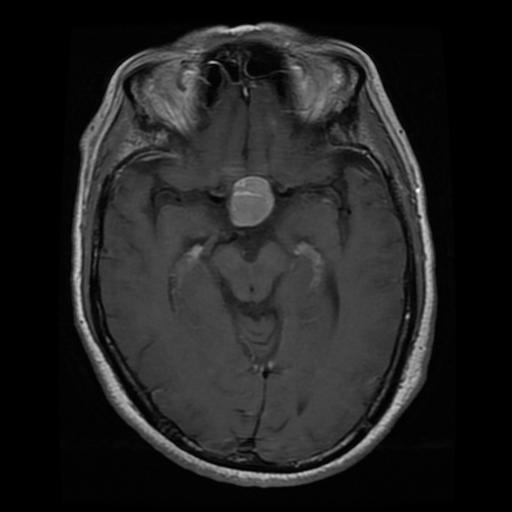Pituirity_tumour: (229, 173, 276, 226)
